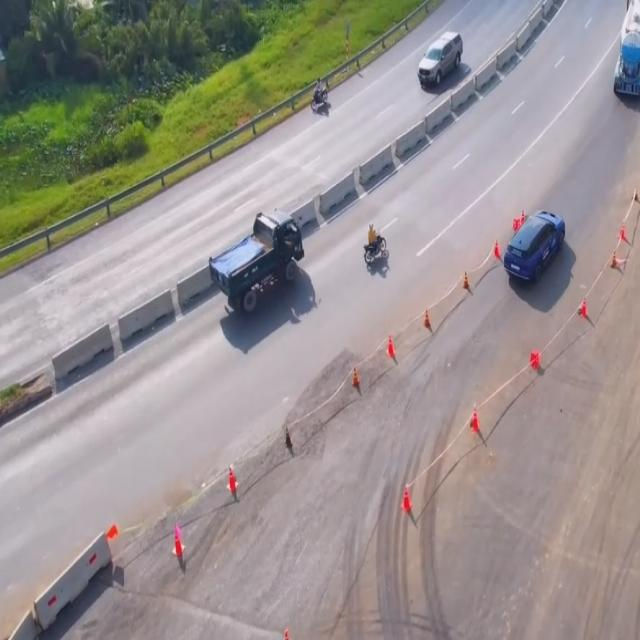car: (506, 208, 565, 284), (417, 28, 462, 88)
motorbike: (360, 223, 388, 265), (308, 76, 331, 112)
truck: (206, 208, 307, 313), (614, 1, 640, 106)
